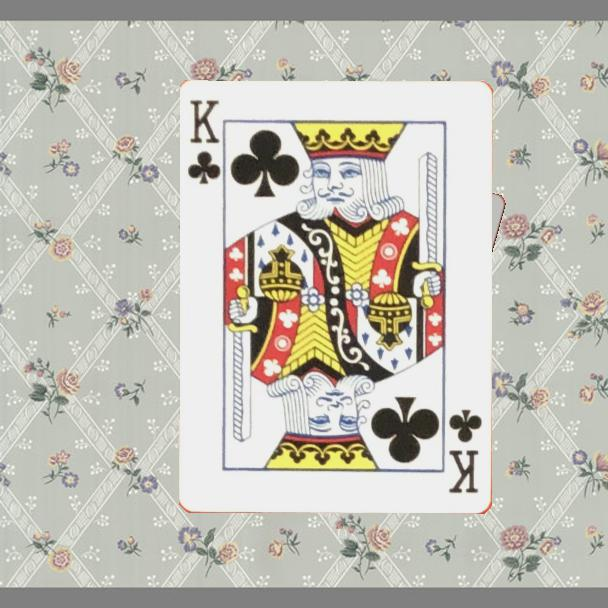c13: (446, 406, 486, 497), (185, 97, 225, 188)
